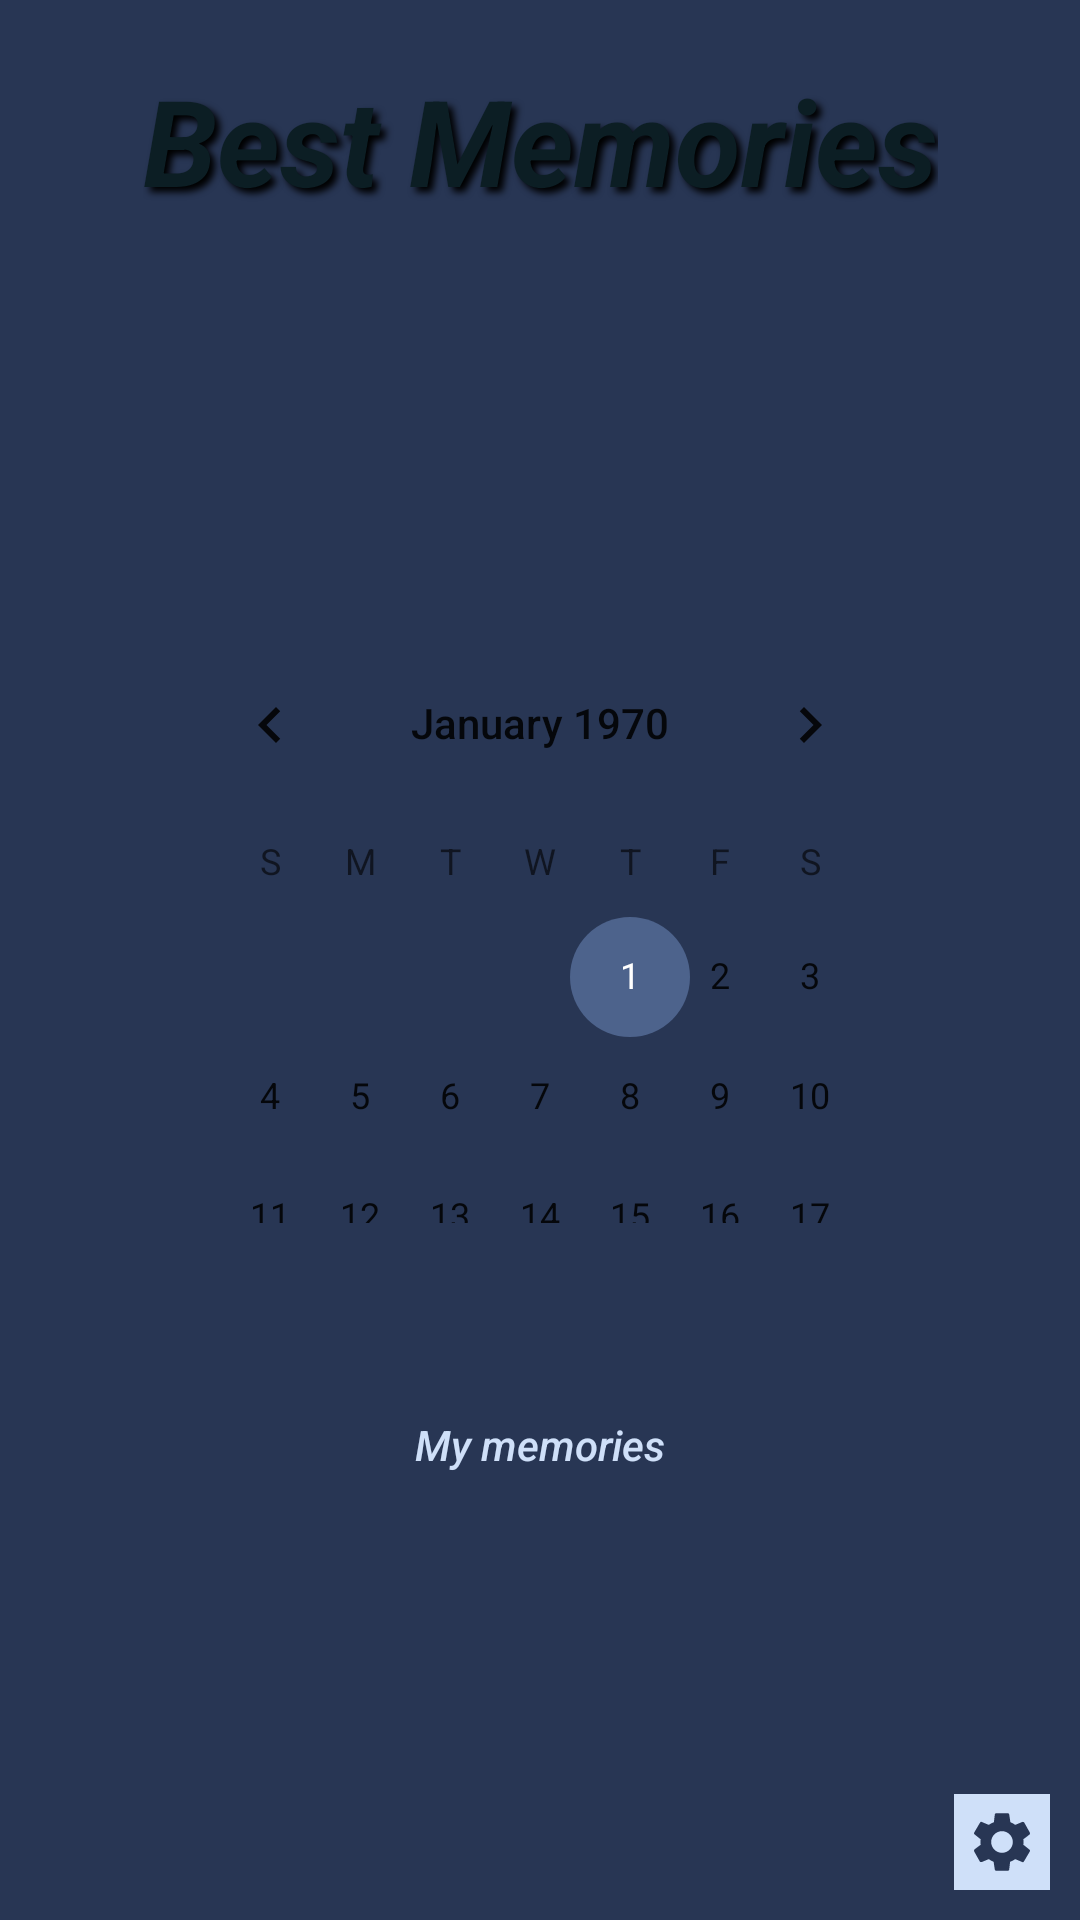

Point at icon controls on the screen. Image size 1080px x 1920px, points as [x,y].
settings: [1002,1842]
